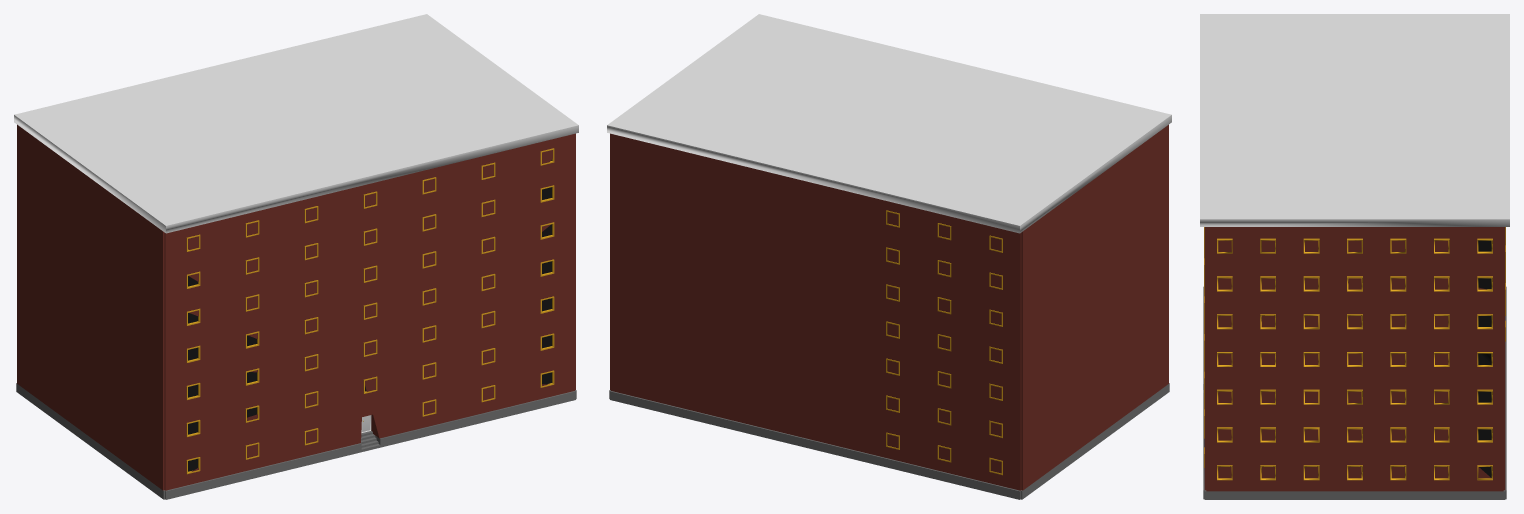
Rendered from BCR40_F07_01.fbx.
3 renders of one model, left to right at view 1: azimuth 30°, elevation 25°; view 2: azimuth 150°, elevation 25°; view 3: azimuth 270°, elevation 25°, orthographic.
Visible parts, largest first — view 1: BCR40_F07_01; view 2: BCR40_F07_01; view 3: BCR40_F07_01.
Part boxes in pixels (x1=…): BCR40_F07_01: x1=14, y1=14, x2=578, y2=499; BCR40_F07_01: x1=607, y1=14, x2=1171, y2=499; BCR40_F07_01: x1=1200, y1=14, x2=1509, y2=499.
Size of the model in its own units: 4015 by 2550 by 2550.
